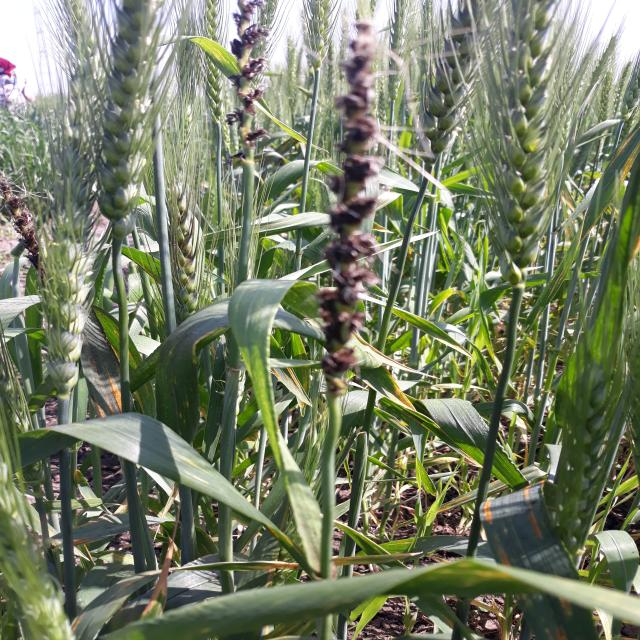loose_charred: (305, 19, 399, 445), (209, 1, 308, 193), (0, 164, 77, 298)
yellow_rust: (472, 479, 594, 640), (352, 336, 453, 444), (396, 472, 530, 529), (144, 549, 304, 587), (76, 332, 142, 421), (137, 532, 178, 624), (59, 581, 124, 639), (48, 515, 134, 549), (406, 441, 483, 474), (71, 470, 104, 513), (336, 550, 422, 564), (68, 543, 100, 575), (94, 550, 136, 570), (110, 496, 134, 518), (257, 622, 282, 640)
